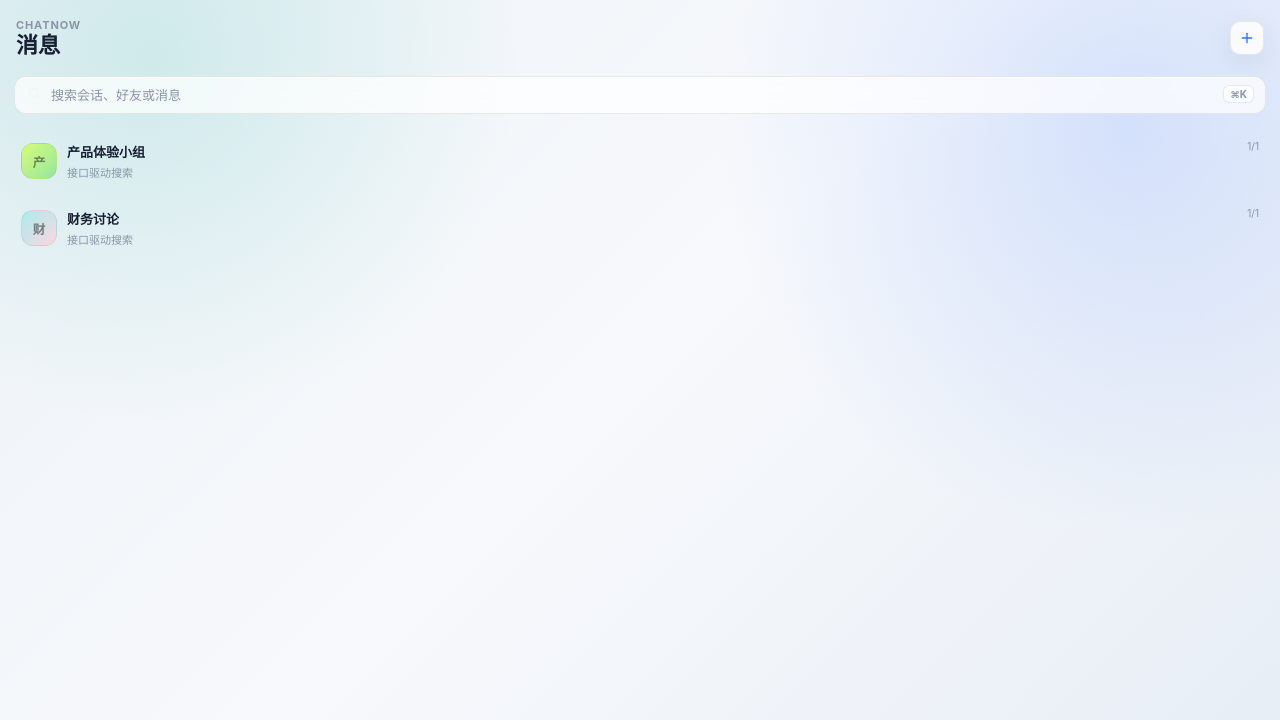
Scenario: ConversationList › falls back to local filtering when backend search fails
The width and height of the screenshot is (1280, 720).
Step 1. Type "产品" into the field with placeholder "搜索会话、好友或消息" → (640, 95), box [14,76,1266,114]
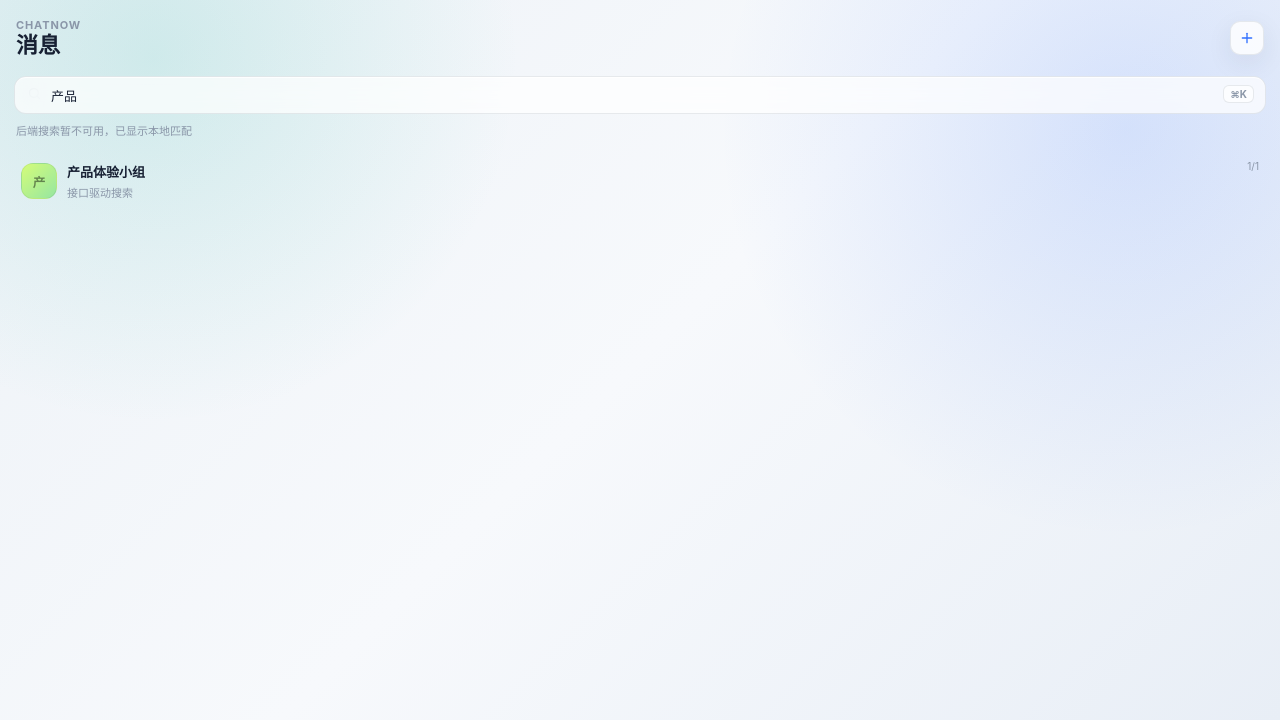
Expected: the text "产品体验小组" is shown, [67,162,145,181]
Expected: the button "财务讨论" is gone
